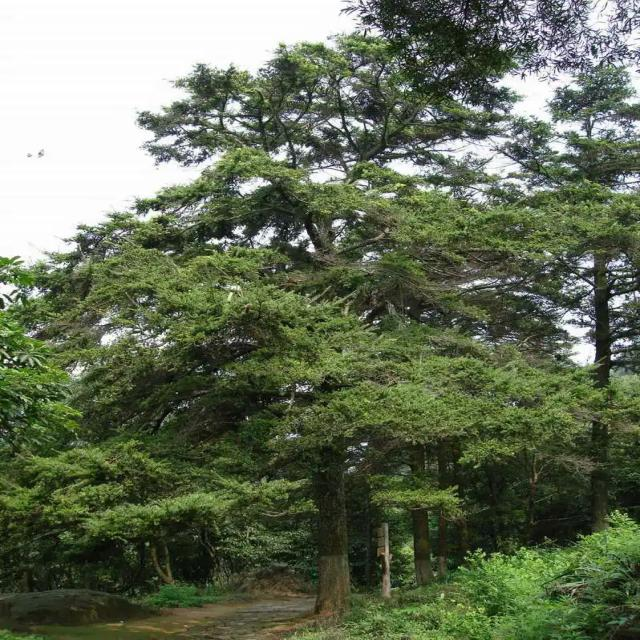dianyousong: (134, 78, 530, 621), (522, 62, 636, 530)
